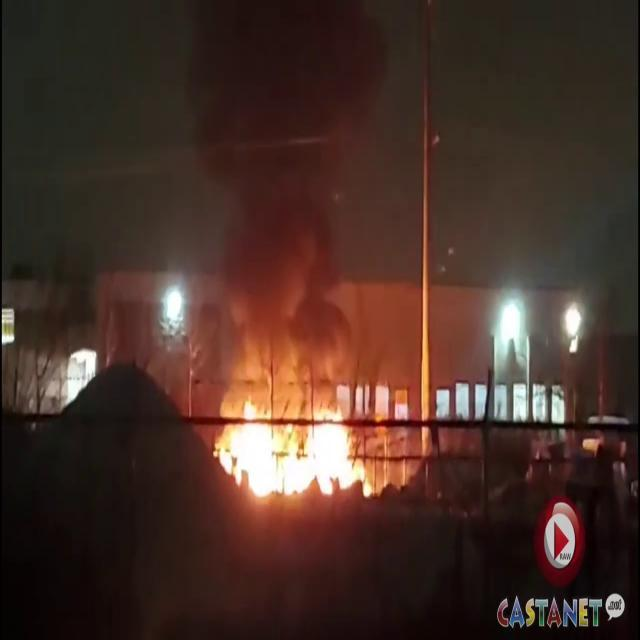Fire: (208, 389, 378, 508)
Smoke: (194, 0, 395, 382)
